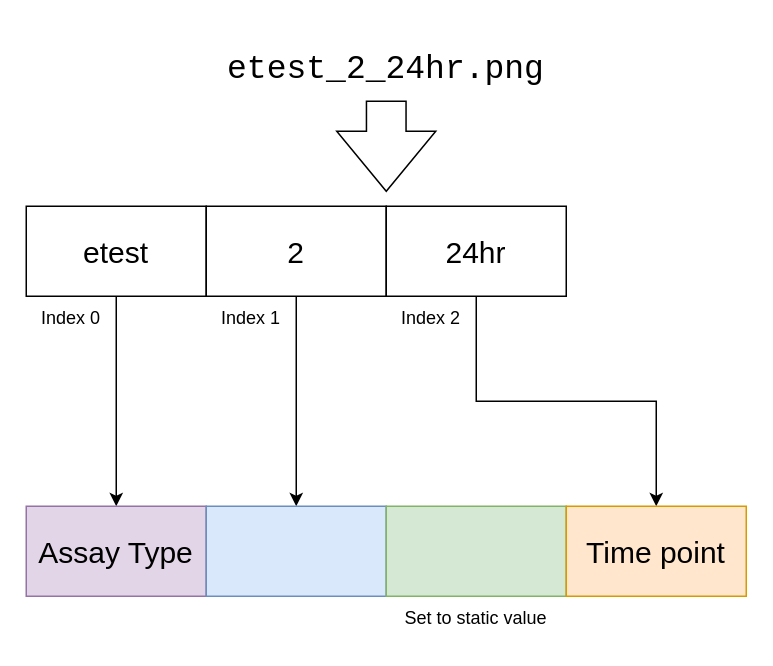
This 773x666 diagram has some shape labels left out. Each missing label, with the box of its shape:
Experiment: (205, 505, 386, 596)
Sample: (385, 505, 566, 596)
